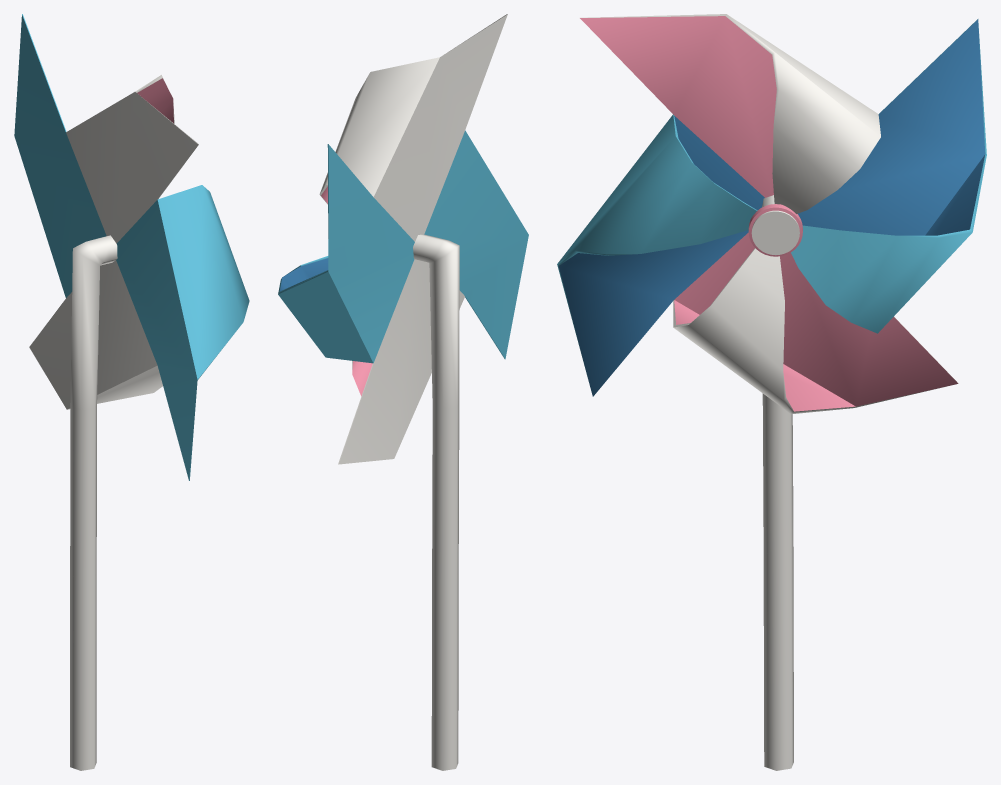
Rendered from Pinwheel.fbx.
The picture shows the model from 3 angles, left to right: view 1: azimuth 30°, elevation 25°; view 2: azimuth 150°, elevation 25°; view 3: azimuth 270°, elevation 25°; orthographic projection. The views are drawn at different scales.
Parts seen in each view (by area): view 1: Cube, BezierCurve.001; view 2: Cube, BezierCurve.001; view 3: Cube, BezierCurve.001, Cylinder.
Part boxes in pixels (x1,y1,x2,y2): Cube: [14, 14, 249, 480]; BezierCurve.001: [70, 235, 117, 770]; Cube: [278, 14, 528, 464]; BezierCurve.001: [413, 234, 459, 770]; Cube: [557, 14, 986, 414]; BezierCurve.001: [762, 195, 793, 770]; Cylinder: [748, 204, 802, 256].
Size of the model in its own units: 6615 by 41158 by 20934.
